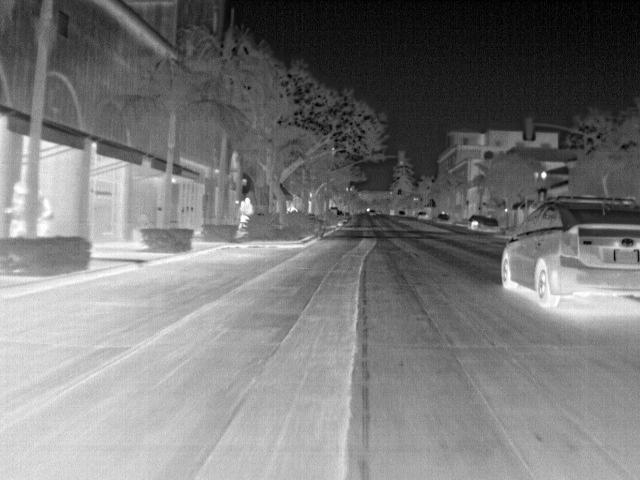car: (497, 195, 639, 314), (482, 216, 503, 232), (469, 214, 488, 230), (435, 211, 453, 226), (416, 210, 432, 222)
person: (6, 181, 29, 239), (35, 188, 56, 237), (239, 196, 256, 224)
